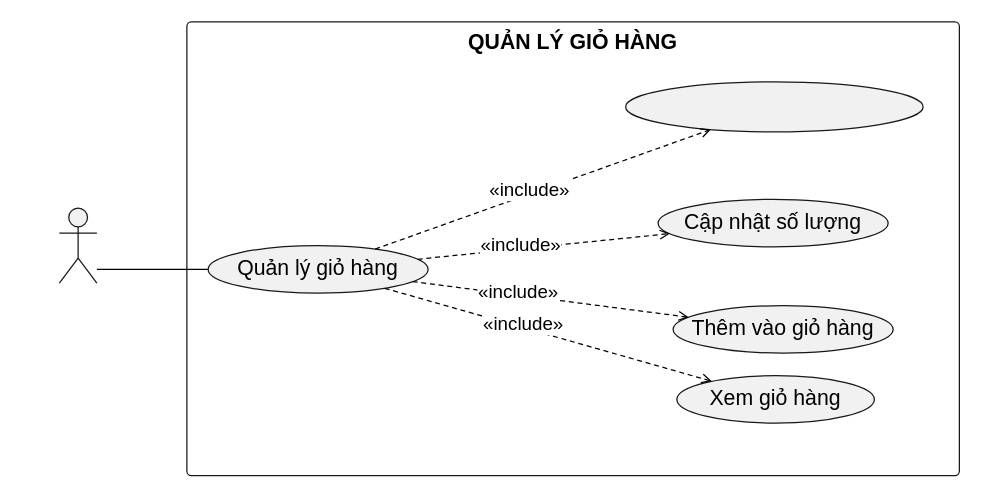
The diagram is 981 pixels wide and 498 high, and some of its shapes have lost their labels. Each missing label, with the box of its shape:
Khách hàng: (58, 207, 97, 283)
Xóa sản phẩm khỏi giỏ hàng: (624, 81, 923, 132)
